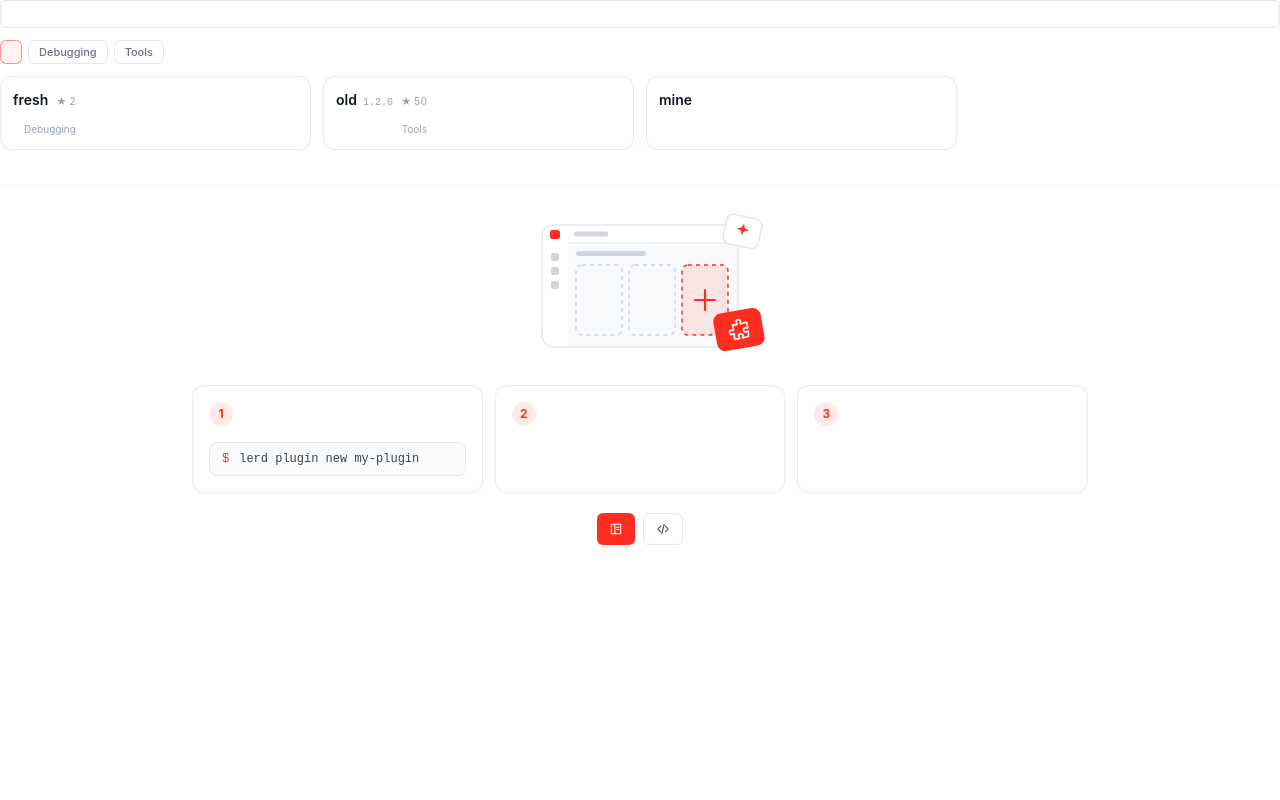
Scenario: shows each listed plugin its version
Check: the text "1.2.0" is shown, box [363,95,393,110]
Click the text "old": {"x": 346, "y": 100} [336,90,357,110]
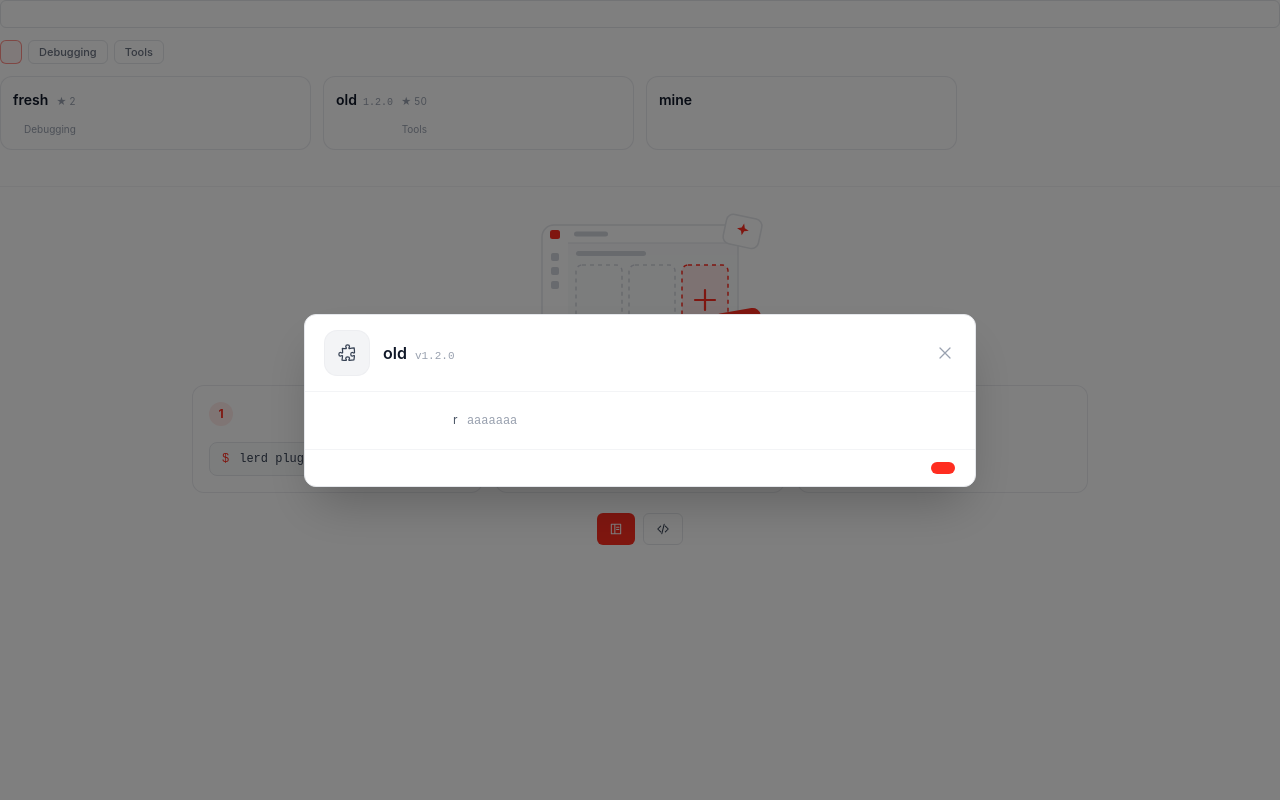
Check: the text "v1.2.0" is shown, box [415,348,454,364]
